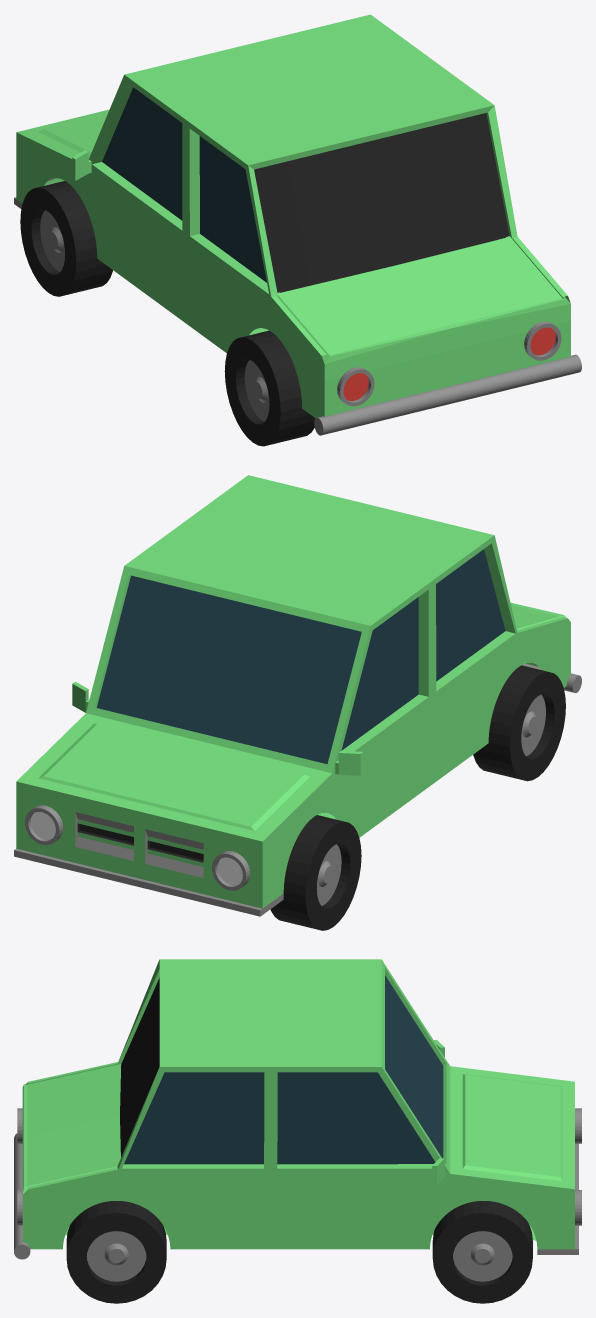
The model's file is Green Car.fbx.
The picture shows the model from 3 angles, top to bottom: view 1: azimuth 30°, elevation 25°; view 2: azimuth 150°, elevation 25°; view 3: azimuth 270°, elevation 25°; orthographic projection. The views are drawn at different scales.
Visible parts, largest first — view 1: Cube.001, Cylinder.001, Cylinder.003, Cube.002, Cylinder.004; view 2: Cube.001, Cylinder.001, Cylinder.003, Cylinder.002; view 3: Cube.001, Cylinder.001, Cylinder.003, Cube.002, Cylinder.002.
Part boxes in pixels (x1=…): Cube.001: x1=14, y1=14, x2=570, y2=418; Cylinder.001: x1=224, y1=330, x2=315, y2=446; Cylinder.003: x1=20, y1=181, x2=112, y2=296; Cube.002: x1=314, y1=354, x2=581, y2=435; Cylinder.004: x1=337, y1=321, x2=561, y2=406; Cube.001: x1=14, y1=475, x2=570, y2=916; Cylinder.001: x1=473, y1=665, x2=565, y2=781; Cylinder.003: x1=270, y1=815, x2=361, y2=930; Cylinder.002: x1=25, y1=805, x2=250, y2=890; Cube.001: x1=22, y1=959, x2=578, y2=1254; Cylinder.001: x1=66, y1=1201, x2=166, y2=1303; Cylinder.003: x1=432, y1=1201, x2=532, y2=1303; Cube.002: x1=14, y1=1133, x2=30, y2=1259; Cylinder.002: x1=575, y1=1108, x2=581, y2=1225.
Bounding box in the file's own units: 143 × 121 × 273.
